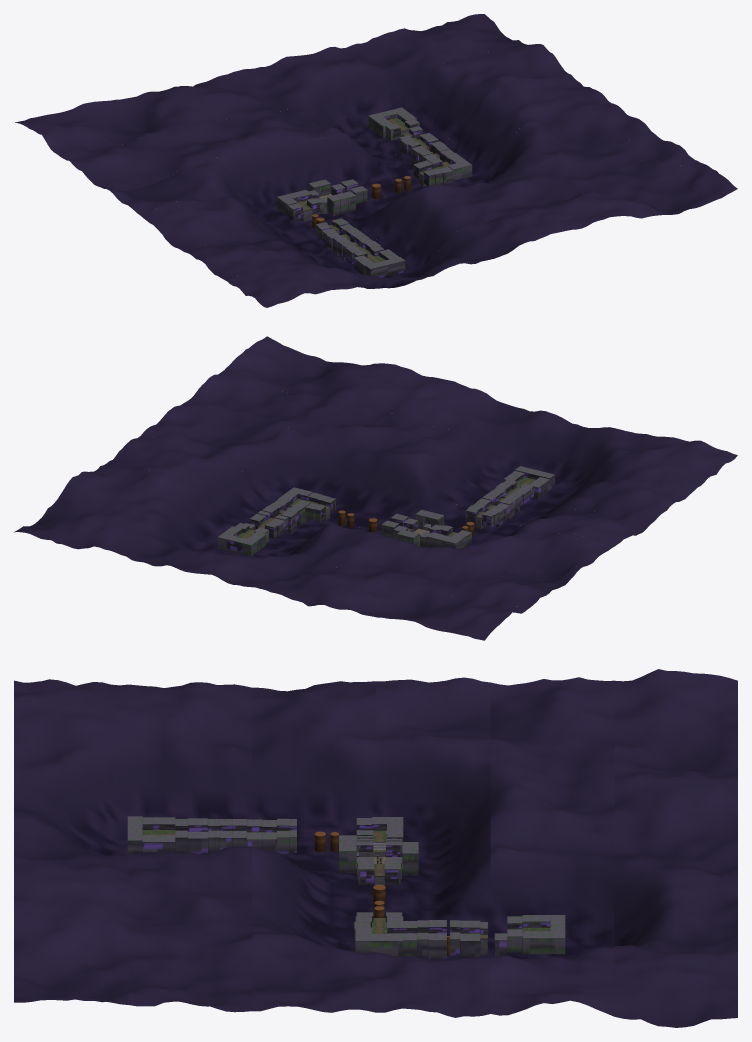
File: spider_woods_terrain.glb
3 views of the same model, one above another, from view 1: azimuth 30°, elevation 25°; view 2: azimuth 150°, elevation 25°; view 3: azimuth 270°, elevation 25° (orthographic). The views are drawn at different scales.
Parts seen in each view (by area): view 1: backdrop_5, backdrop_4, backdrop_3, backdrop_1, backdrop_0, backdrop_2, terrain_E, terrain_H, terrain_F, terrain_A, terrain_I, terrain_C (+3 smaller); view 2: backdrop_0, backdrop_2, backdrop_1, backdrop_5, backdrop_4, backdrop_3, terrain_E, terrain_H, terrain_F, terrain_J, terrain_A, terrain_C (+3 smaller); view 3: backdrop_5, backdrop_4, backdrop_0, backdrop_1, backdrop_2, backdrop_3, terrain_H, terrain_E, terrain_B, terrain_I, terrain_C, terrain_A (+3 smaller).
Part boxes in pixels (<box>): backdrop_5: <box>15,14,527,154</box>; backdrop_4: <box>57,44,570,190</box>; backdrop_3: <box>101,74,610,223</box>; backdrop_1: <box>184,133,697,280</box>; backdrop_0: <box>227,161,737,307</box>; backdrop_2: <box>141,103,653,255</box>; terrain_E: <box>277,179,355,216</box>; terrain_H: <box>408,137,472,180</box>; terrain_F: <box>340,163,434,203</box>; terrain_A: <box>353,249,405,277</box>; terrain_I: <box>385,119,434,155</box>; terrain_C: <box>317,220,364,255</box>; backdrop_0: <box>227,336,737,492</box>; backdrop_2: <box>141,403,653,548</box>; backdrop_1: <box>184,367,697,525</box>; backdrop_5: <box>14,499,527,640</box>; backdrop_4: <box>57,466,570,608</box>; backdrop_3: <box>101,436,610,582</box>; terrain_E: <box>393,509,466,548</box>; terrain_H: <box>257,487,312,534</box>; terrain_F: <box>314,497,408,538</box>; terrain_J: <box>217,526,265,556</box>; terrain_A: <box>503,466,555,498</box>; terrain_C: <box>467,494,514,527</box>; backdrop_5: <box>614,669,737,1027</box>; backdrop_4: <box>490,677,614,1016</box>; backdrop_0: <box>14,679,128,1004</box>; backdrop_1: <box>128,682,252,1012</box>; backdrop_2: <box>252,681,375,1012</box>; backdrop_3: <box>376,677,490,1017</box>; terrain_H: <box>355,920,460,958</box>; terrain_E: <box>339,817,418,884</box>; terrain_B: <box>175,818,232,854</box>; terrain_I: <box>460,916,522,956</box>; terrain_C: <box>232,818,289,853</box>; terrain_A: <box>127,816,175,853</box>.
Size of the model in its own units: 616 by 76.34 by 574.
